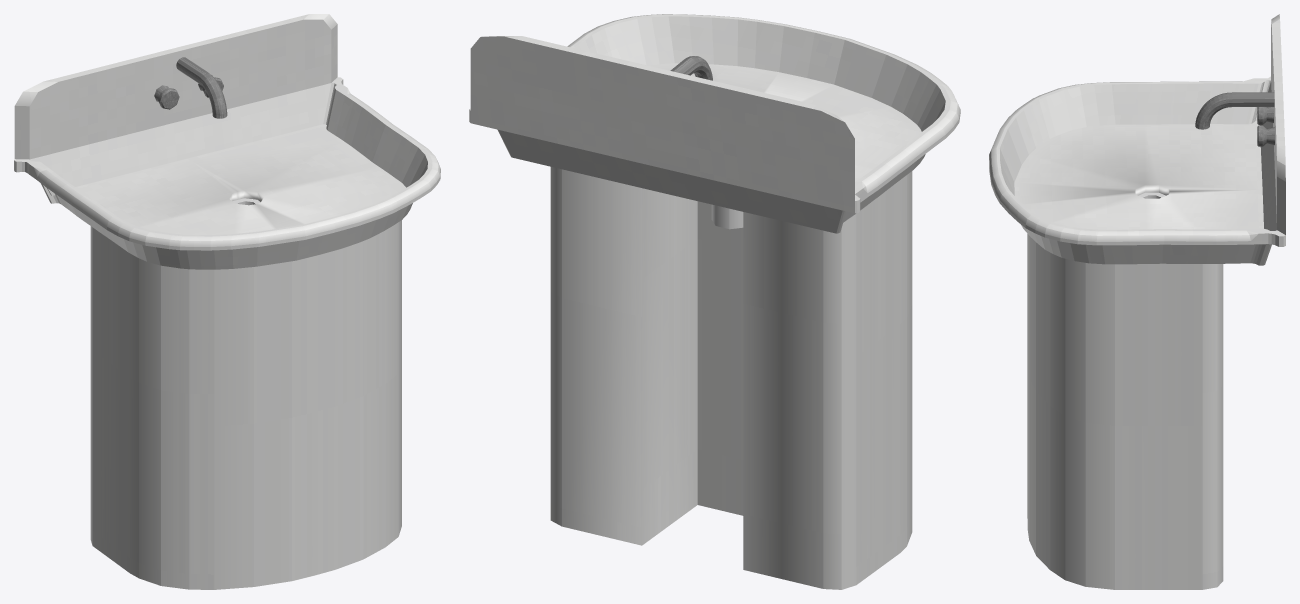
Rendered from umywalka.fbx.
3 views of the same model, side by side, from view 1: azimuth 30°, elevation 25°; view 2: azimuth 150°, elevation 25°; view 3: azimuth 270°, elevation 25° (orthographic). The views are drawn at different scales.
Visible parts, largest first — view 1: Plane.063, Plane.062, Torus; view 2: Plane.063, Plane.062, Cylinder.049, Torus; view 3: Plane.063, Plane.062, Torus.
Boxes of the visible parts, x1,y1,x2,y2 form: Plane.063: (90,199,401,589); Plane.062: (14,14,440,269); Torus: (176,57,227,118); Plane.063: (550,167,912,589); Plane.062: (469,14,960,233); Cylinder.049: (711,204,743,229); Torus: (670,56,712,80); Plane.063: (1027,234,1223,589); Plane.062: (989,14,1285,265); Torus: (1195,92,1274,129).
Bounding box in the file's own units: 67.66 × 85.73 × 52.45.
